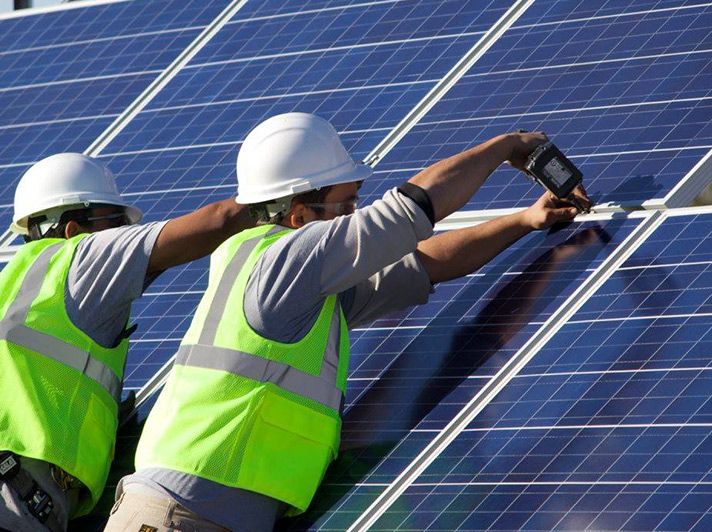Hard Hat: (235, 115, 373, 226), (13, 154, 143, 242)
Person: (135, 112, 491, 532), (1, 154, 152, 532)
Vest: (135, 181, 372, 515), (1, 205, 134, 520)
